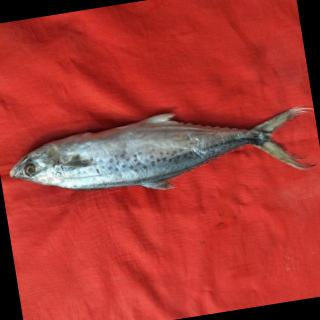Ikan: (2, 87, 318, 230)
